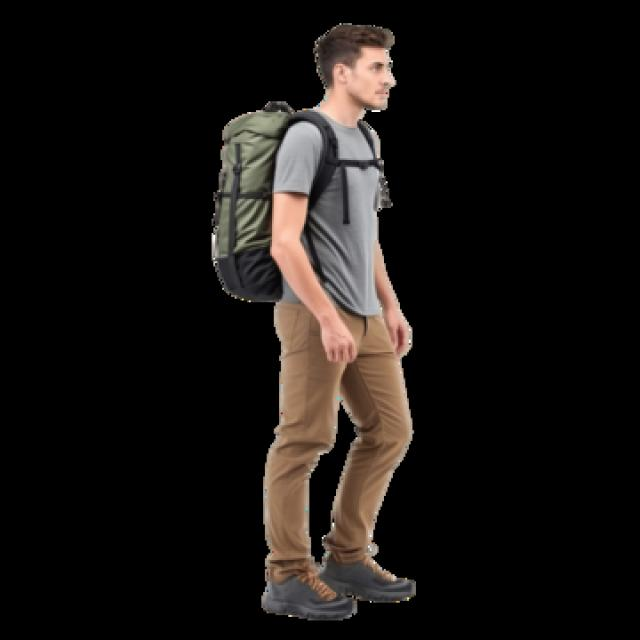backpack: (211, 101, 387, 305)
